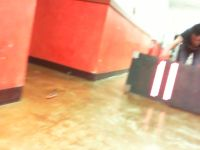switch: (162, 62, 179, 100), (150, 61, 167, 97)
